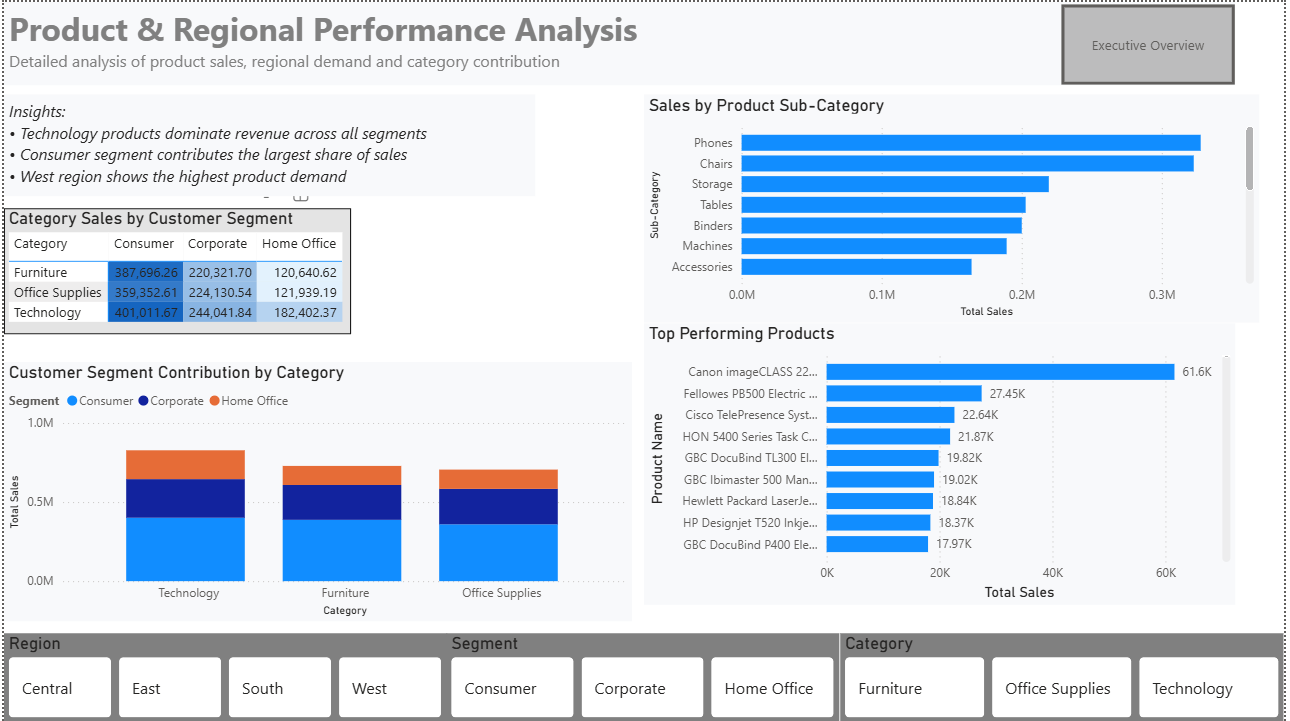

The page's visual inventory and layout, read from the dashboard file:
{"tool":"powerbi","page":{"name":"Product & Regional Analysis","canvas":[1280,720],"ordinal":1},"visuals":[{"type":"advancedSlicerVisual","fields":{"Values":["superstore_sales.Region"]},"box":[0,631,443.1,89.7],"z":0},{"type":"advancedSlicerVisual","fields":{"Values":["superstore_sales.Segment"]},"box":[443.1,631,393.1,89.7],"z":1000},{"type":"advancedSlicerVisual","fields":{"Values":["superstore_sales.Category"]},"box":[836.2,631,443.1,89.7],"z":2000},{"type":"textbox","box":[0,0,1231,83.1],"z":3000},{"type":"clusteredBarChart","title":"Sales by Product Sub-Category","fields":{"Y":["superstore_sales.Total Sales"],"Category":["superstore_sales.Sub-Category"]},"box":[639.4,93,615,228.2],"z":4000},{"type":"pivotTable","title":"Category Sales by Customer Segment","fields":{"Rows":["superstore_sales.Category"],"Columns":["superstore_sales.Segment"],"Values":["superstore_sales.Total Sales"]},"box":[0,206.7,348,125.3],"z":5000},{"type":"barChart","title":"Top Performing Products","fields":{"Category":["superstore_sales.Product Name"],"Y":["superstore_sales.Total Sales"]},"box":[639.4,321.1,591.5,281.7],"z":6000},{"type":"columnChart","title":"Customer Segment Contribution by Category","fields":{"Series":["superstore_sales.Segment"],"Category":["superstore_sales.Category"],"Y":["superstore_sales.Total Sales"]},"box":[0,360.6,628.2,259.2],"z":6001},{"type":"textbox","box":[0,93,531,101.4],"z":6002},{"type":"actionButton","box":[1057.7,2.8,173.2,80.3],"z":6003}]}

Visuals, with their boxes in screenshot pixels (x1, y1, x2, y2), scaled from the page's 1280x720 canvas onto the 1290x721 screenshot:
advancedSlicerVisual - superstore_sales.Region: 0, 632, 447, 720
advancedSlicerVisual - superstore_sales.Segment: 447, 632, 843, 720
advancedSlicerVisual - superstore_sales.Category: 843, 632, 1289, 720
textbox: 0, 0, 1241, 83
"Sales by Product Sub-Category" clusteredBarChart: 644, 93, 1264, 322
"Category Sales by Customer Segment" pivotTable: 0, 207, 351, 332
"Top Performing Products" barChart: 644, 322, 1241, 604
"Customer Segment Contribution by Category" columnChart: 0, 361, 633, 621
textbox: 0, 93, 535, 195
actionButton: 1066, 3, 1241, 83
